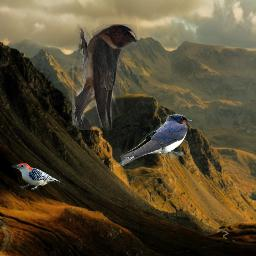Swallow: (72, 24, 137, 130), (112, 114, 192, 170)
Woodpecker: (11, 163, 61, 190)
